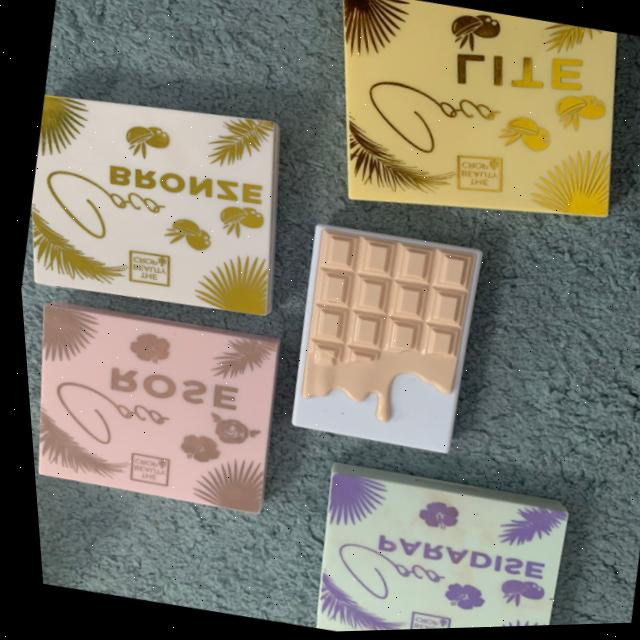makeup: (289, 0, 640, 263), (4, 70, 318, 347), (17, 280, 315, 540), (264, 210, 507, 467), (284, 455, 611, 634)
